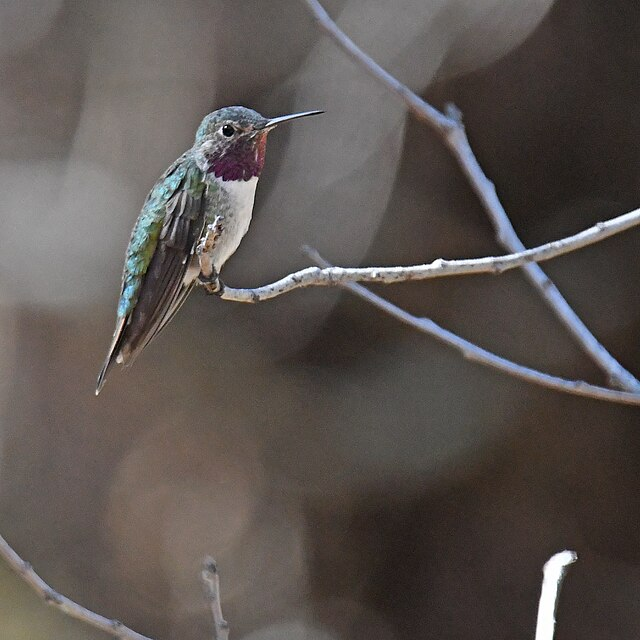selasphorus platycercus: (92, 106, 323, 392)
